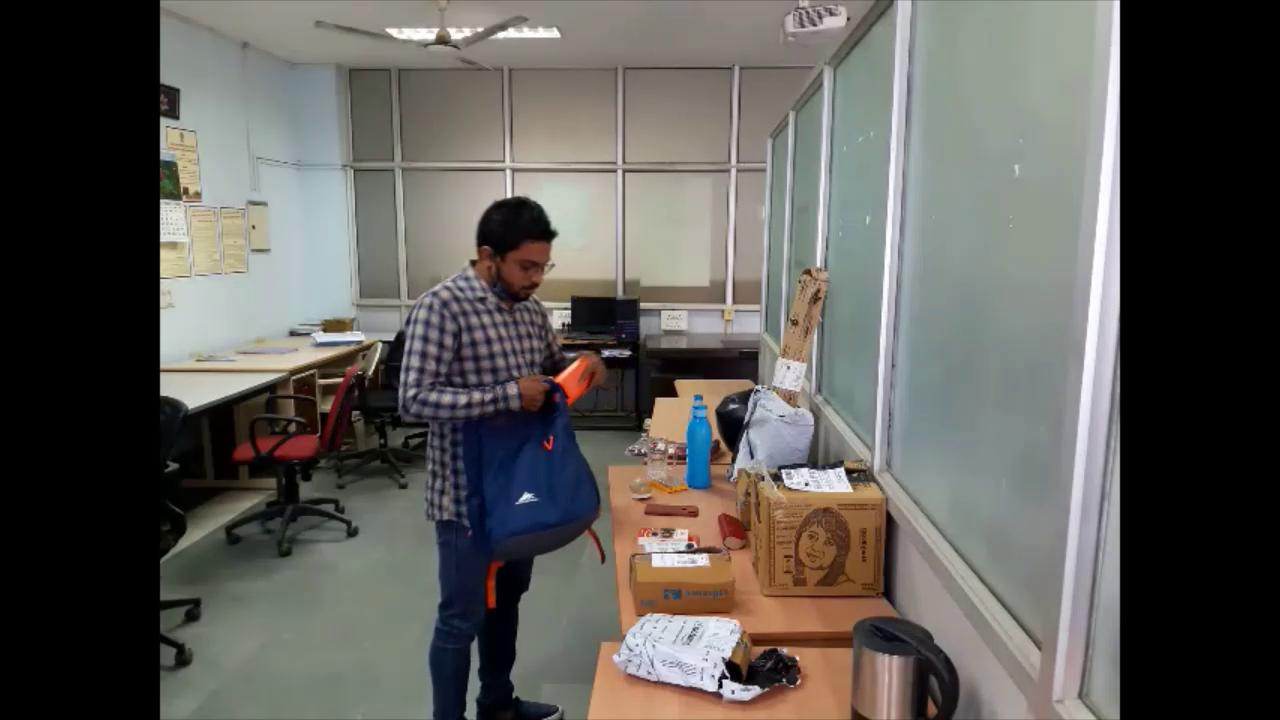shoplifting: (390, 182, 618, 720)
